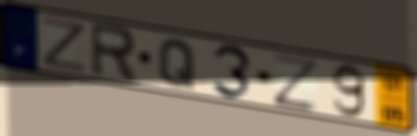3: (207, 43, 256, 101)
9: (330, 64, 368, 118)
Q: (157, 37, 198, 91)
R: (88, 21, 139, 86)
Z: (270, 51, 321, 114), (40, 15, 89, 75)
